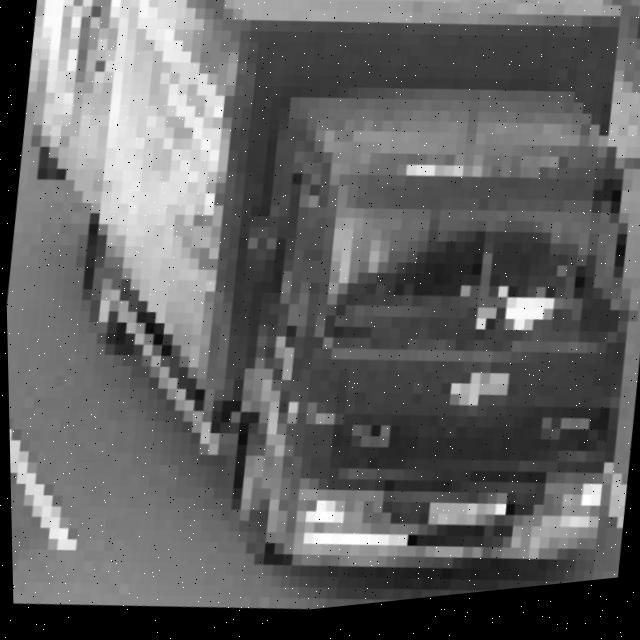truck: (183, 14, 640, 626)
